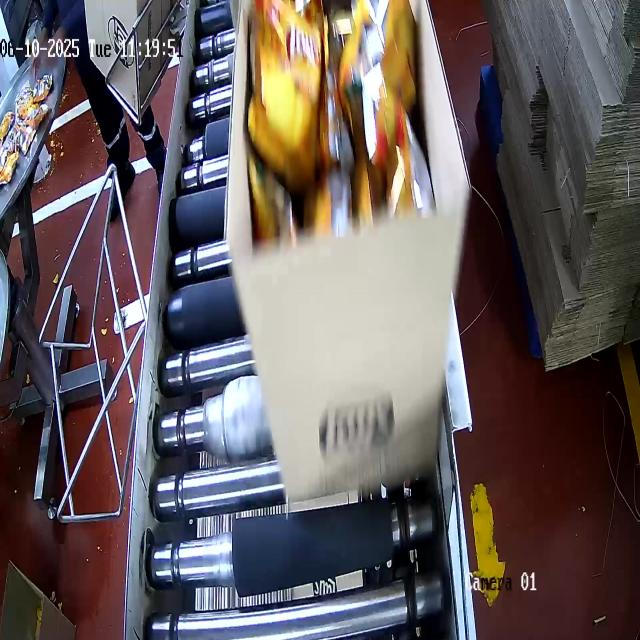FRENCH_CHEESE: (245, 0, 434, 233)
